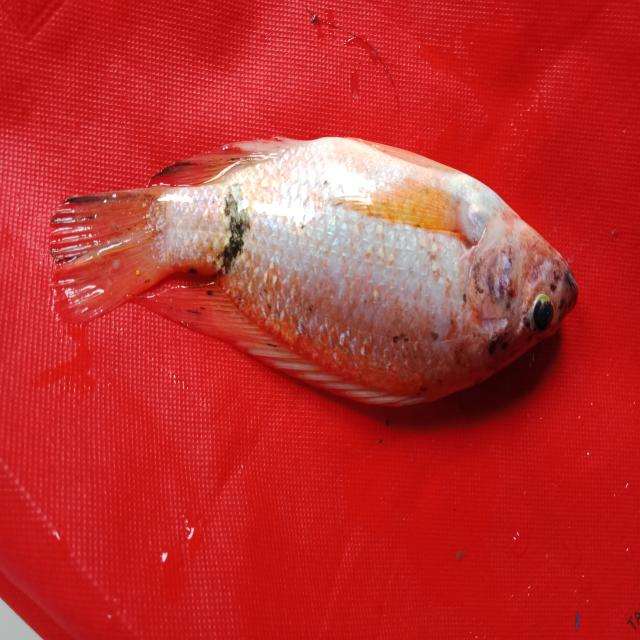ikan: (28, 116, 588, 428)
